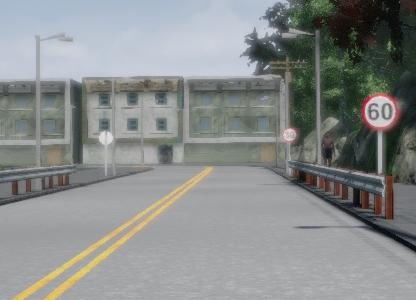Speed_60: (360, 88, 400, 134)
